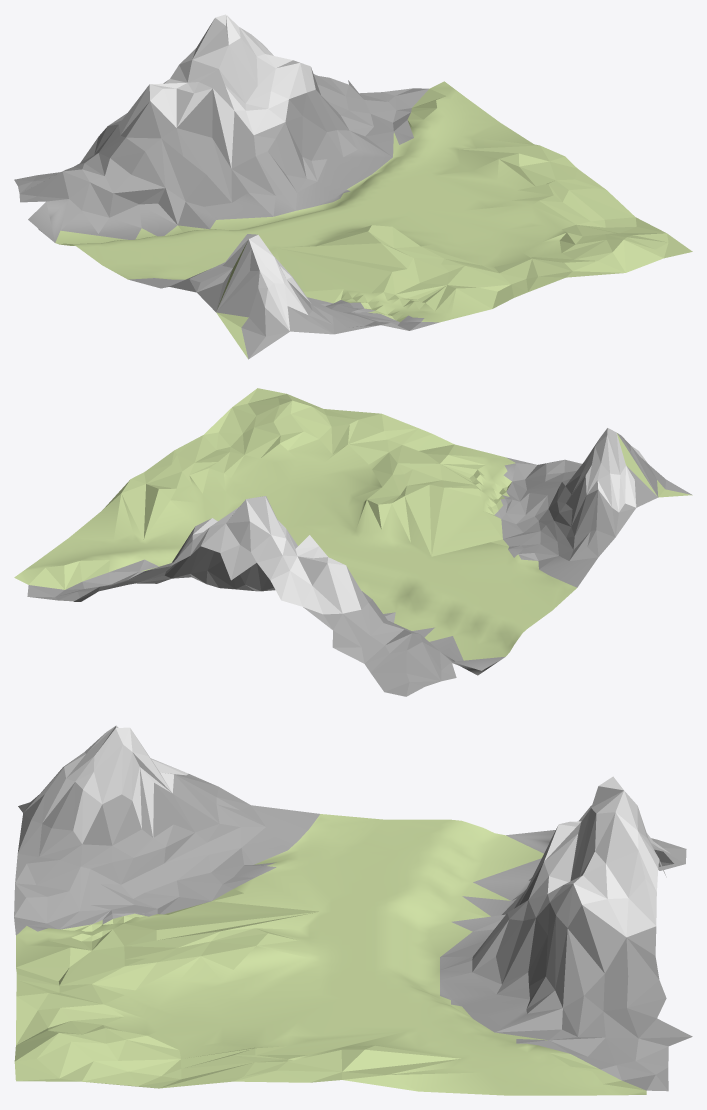
File: twomountaints.fbx
3 renders of one model, top to bottom at view 1: azimuth 30°, elevation 25°; view 2: azimuth 150°, elevation 25°; view 3: azimuth 270°, elevation 25°, orthographic. The views are drawn at different scales.
Parts seen in each view (by area): view 1: pPlane3; view 2: pPlane3; view 3: pPlane3.
Boxes of the visible parts, box(x1,y1,x2,y2) form: pPlane3: box(14, 14, 692, 359); pPlane3: box(14, 388, 692, 696); pPlane3: box(14, 725, 692, 1095).
Size of the model in its own units: 1005 by 334 by 1040.
